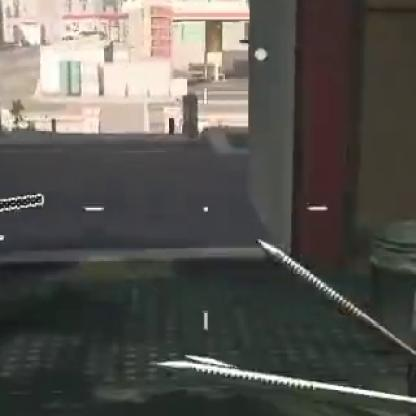enemy: (6, 96, 32, 129)
